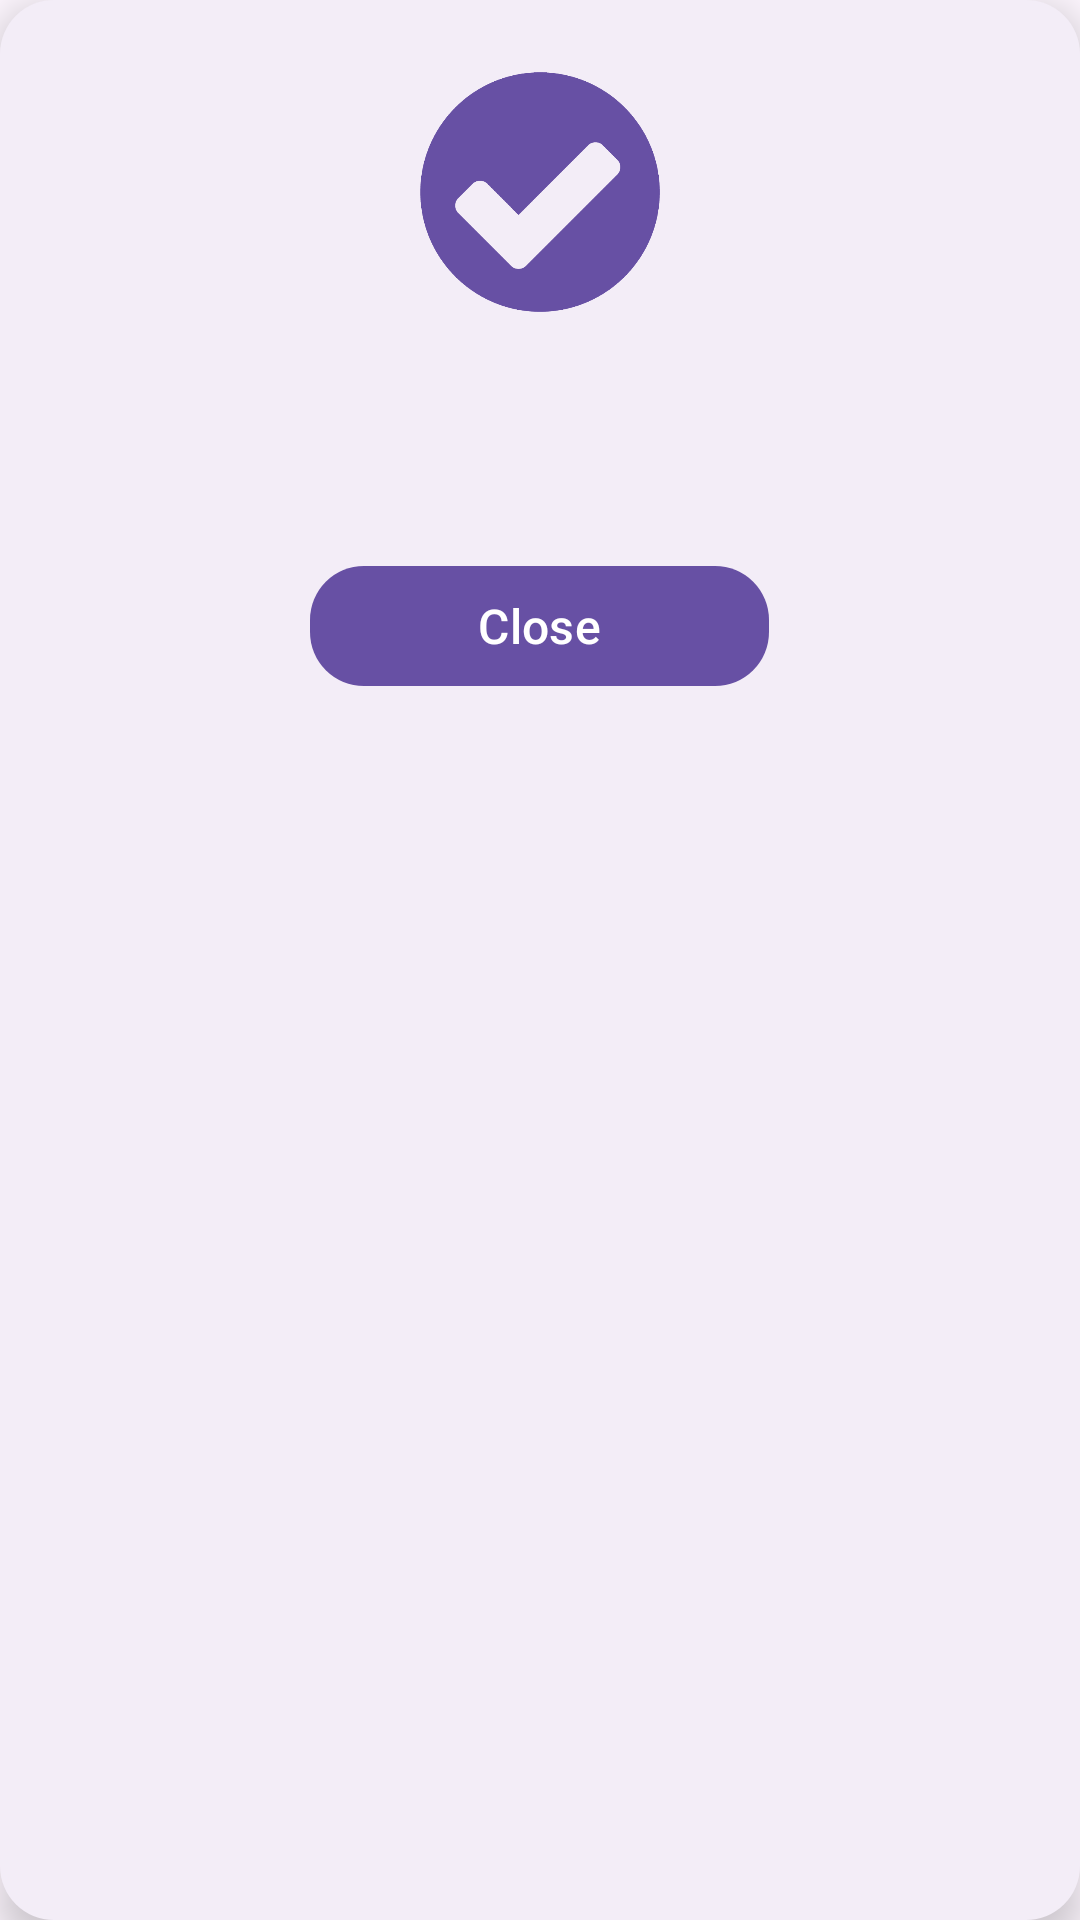

Named icons in this screenshot (1080 x 1920) and their bounding boxes, (x1, y1, x2, y2):
tick: (420, 72, 660, 312)
